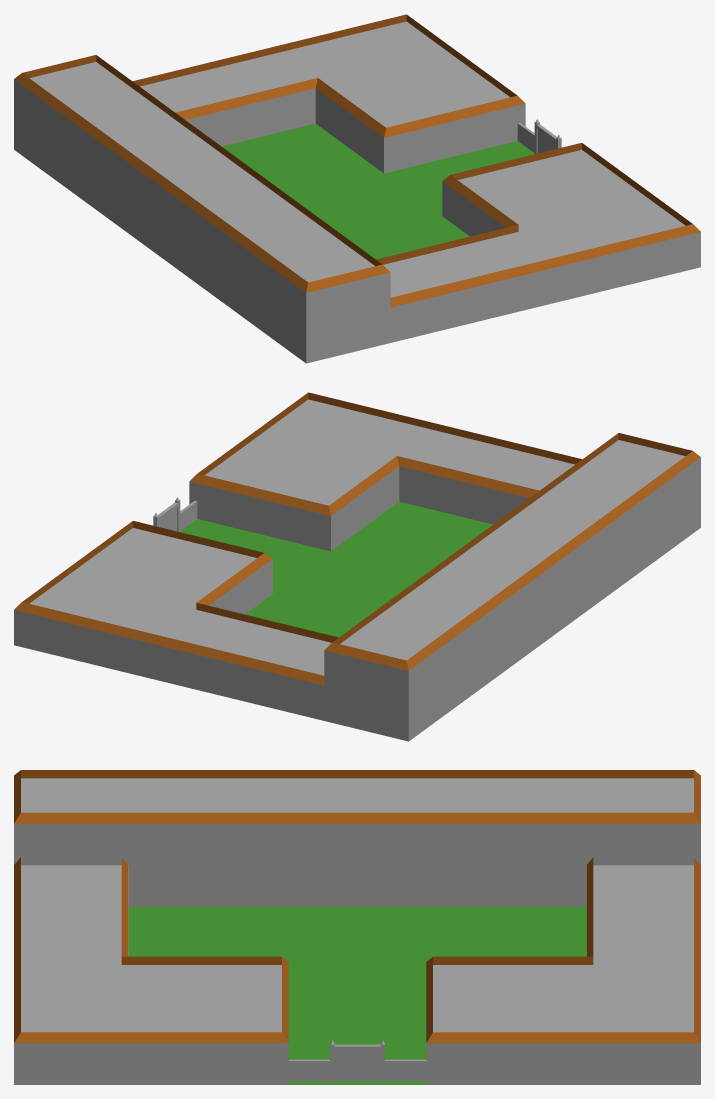
The model's file is courtyard1.fbx.
The picture shows the model from 3 angles, top to bottom: view 1: azimuth 30°, elevation 25°; view 2: azimuth 150°, elevation 25°; view 3: azimuth 270°, elevation 25°; orthographic projection. The views are drawn at different scales.
Parts seen in each view (by area): view 1: pCube2, pCube5, pCube1, pPlane1, pCube4, pCube3, ramp_pCube15, pPlane2, ramp_pCube4, ramp_pCube16, ramp_pCube14, ramp_pCube5 (+9 smaller); view 2: pCube2, pCube1, pCube5, pPlane1, pCube3, pCube4, ramp_pCube15, pPlane2, ramp_pCube14, ramp_pCube16, ramp_pCube4, ramp_pCube6 (+9 smaller); view 3: pCube2, pCube1, pCube5, pPlane1, pCube3, pCube4, ramp_pCube16, pPlane2, ramp_pCube15, ramp_pCube12, ramp_pCube13, pCube6 (+10 smaller).
Boxes of the visible parts, box(x1,y1,x2,y2) form: pCube2: box(14, 62, 390, 363); pCube5: box(270, 21, 525, 173); pCube1: box(442, 150, 700, 301); pPlane1: box(222, 123, 469, 259); pCube4: box(383, 233, 559, 342); pCube3: box(140, 55, 315, 146); ramp_pCube15: box(17, 73, 308, 290); pPlane2: box(384, 141, 534, 215); ramp_pCube4: box(390, 224, 695, 307); ramp_pCube16: box(96, 55, 382, 265); ramp_pCube14: box(133, 14, 406, 86); ramp_pCube5: box(175, 79, 315, 119); pCube2: box(324, 440, 700, 741); pCube1: box(189, 399, 444, 551); pCube5: box(14, 528, 272, 679); pPlane1: box(245, 501, 492, 637); pCube3: box(155, 611, 331, 720); pCube4: box(399, 433, 574, 524); ramp_pCube15: box(406, 451, 697, 668); pPlane2: box(180, 519, 330, 593); ramp_pCube14: box(19, 602, 324, 685); ramp_pCube16: box(332, 433, 618, 643); ramp_pCube4: box(308, 392, 581, 464); ramp_pCube6: box(399, 457, 539, 497); pCube2: box(14, 778, 700, 906); pCube1: box(14, 962, 288, 1084); pCube5: box(426, 962, 700, 1084); pPlane1: box(128, 907, 586, 1003); pCube3: box(586, 865, 693, 961); pCube4: box(21, 865, 128, 961); ramp_pCube16: box(21, 812, 693, 823); pPlane2: box(288, 1003, 426, 1084); ramp_pCube15: box(21, 770, 693, 778); ramp_pCube12: box(21, 1032, 281, 1043); ramp_pCube13: box(433, 1032, 693, 1043); pCube6: box(334, 1051, 380, 1081).
Bounding box in the file's own units: 234 × 44 × 300.
